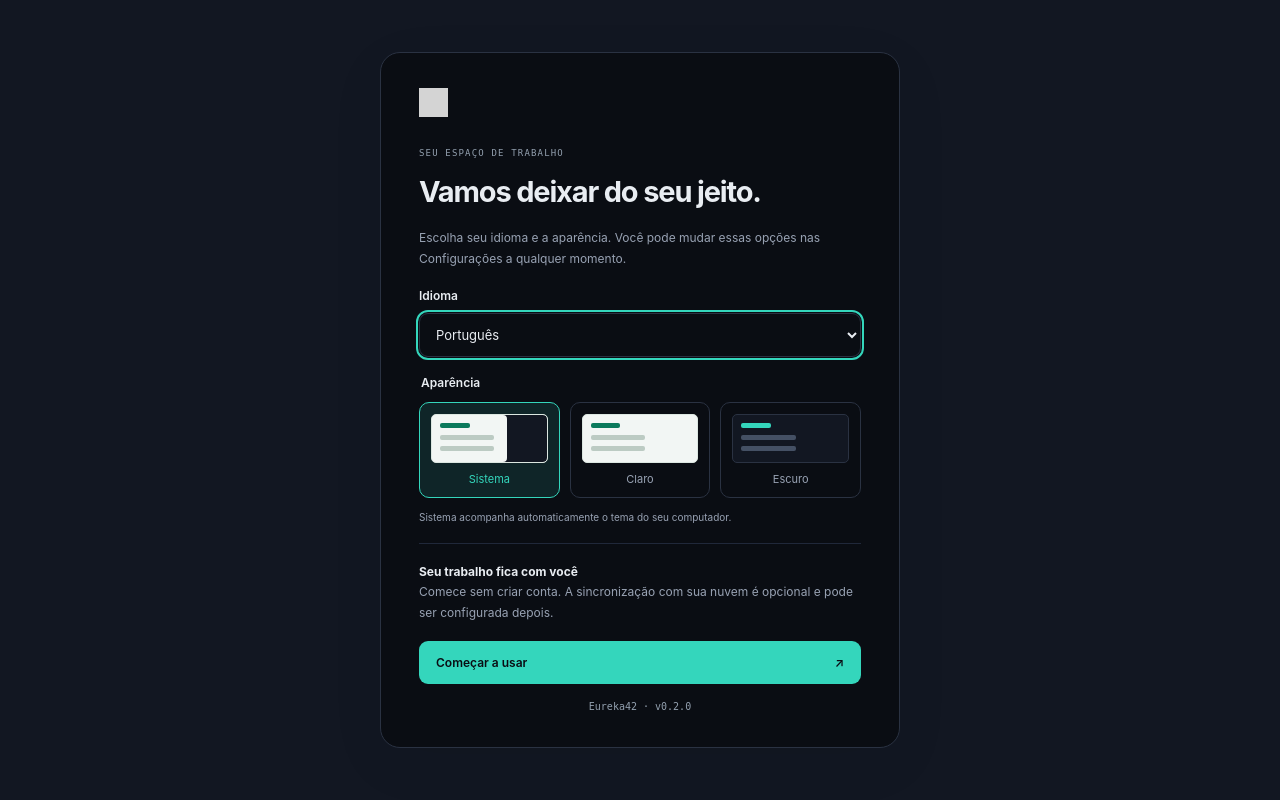
Test: first-run setup › keeps setup pending and allows retry when settings cannot be saved
This screenshot has width=1280, height=800.
Later steps or results of the test are not shown.
Click the button "Começar a usar ↗".
click(482, 663)  # box [419,641,861,684]
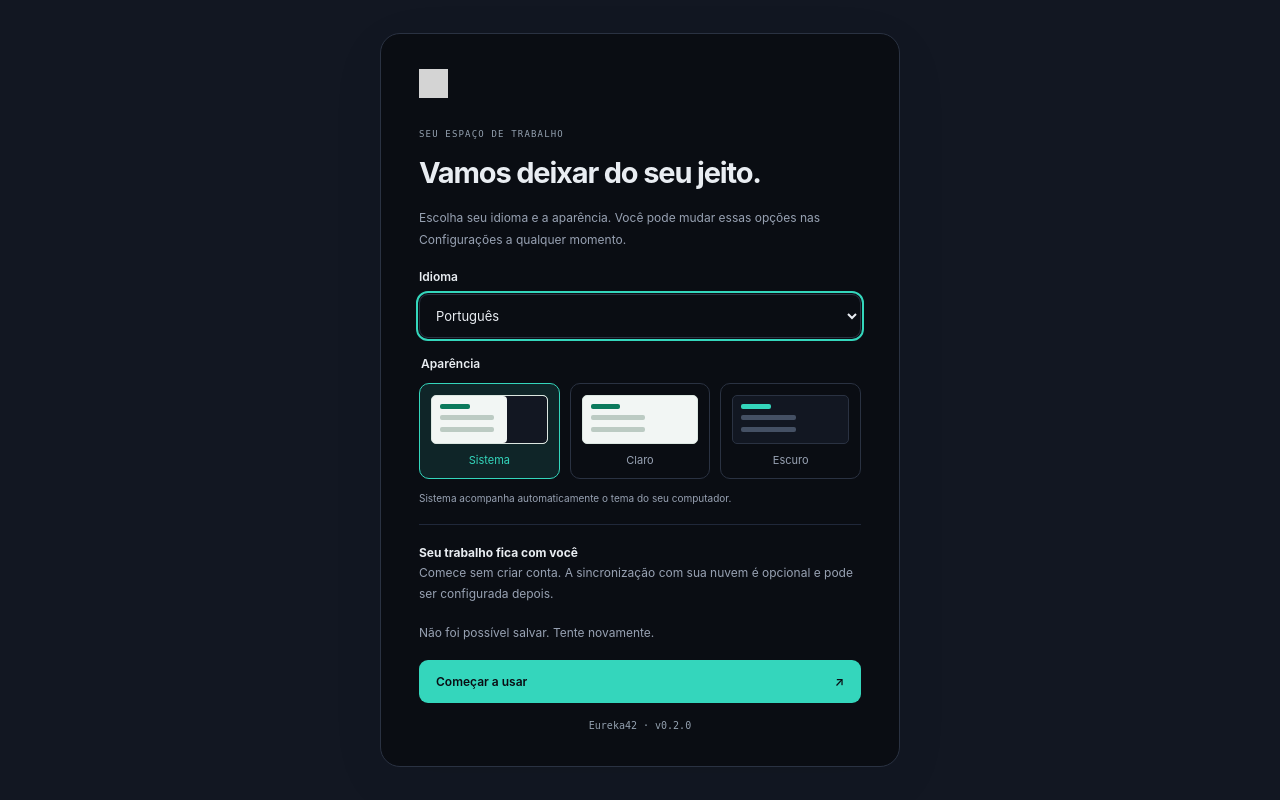
Check: the message "Não foi possível salvar. Tente novamente." is shown, box [419,625,654,640]
